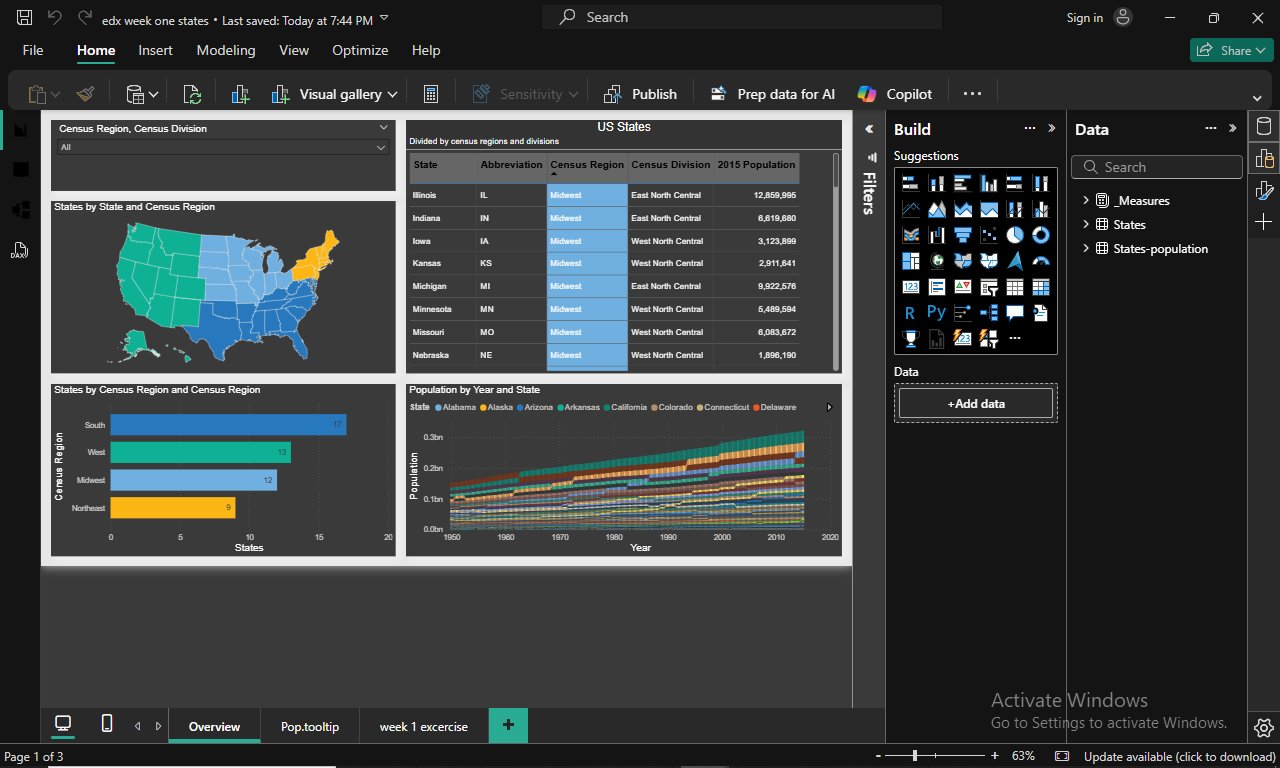

Layout of this report page (visuals, bound fields, positions):
{"tool":"powerbi","page":{"name":"Overview","canvas":[1280,720],"ordinal":0},"visuals":[{"type":"tableEx","title":"US States","fields":{"Values":["States.State","States.Abbreviation","States.Census Region","States.Census Division","States.2015 Population"]},"box":[576,16,688,400],"z":0},{"type":"shapeMap","fields":{"Category":["States.State"],"Value":["_Measures.States"],"Series":["States.Census Region"]},"box":[16,144,544,272],"z":1000},{"type":"barChart","fields":{"Category":["States.Census Region"],"Y":["_Measures.States"],"Series":["States.Census Region"]},"box":[16,432,544,272],"z":2000},{"type":"slicer","fields":{"Values":["States.Census Areas.Census Region","States.Census Areas.Census Division"]},"box":[16,16,544,112],"z":3000},{"type":"ribbonChart","fields":{"Category":["States-population.Year"],"Series":["States.State"],"Y":["_Measures.Population"]},"box":[576,432,688,272],"z":4000}]}

Visuals, with their boxes on the page's 1280x720 design canvas (x1, y1, x2, y2). These are canvas units, not pixel positions in the 1280x768 screenshot, which may show the page scaled, cropped or inside an application window:
"US States" tableEx: 576/16/1264/416
shapeMap - States.State x _Measures.States: 16/144/560/416
barChart - States.Census Region x _Measures.States: 16/432/560/704
slicer - States.Census Areas.Census Region x States.Census Areas.Census Division: 16/16/560/128
ribbonChart - States-population.Year x States.State: 576/432/1264/704
